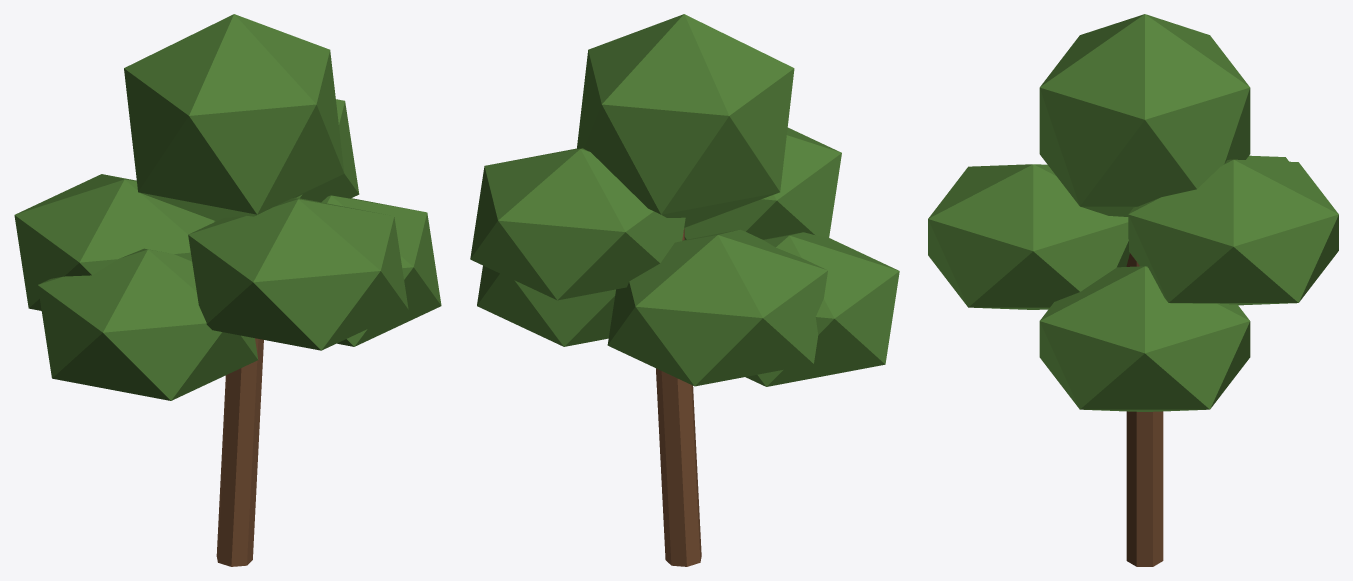
The model's file is tree_21.glb.
3 views of the same model, side by side, from view 1: azimuth 30°, elevation 25°; view 2: azimuth 150°, elevation 25°; view 3: azimuth 270°, elevation 25° (orthographic).
Visible parts, largest first — view 1: tree_21; view 2: tree_21; view 3: tree_21.
Part boxes in pixels (x1,y1,x2,y2): tree_21: (14, 14, 441, 566); tree_21: (470, 14, 899, 566); tree_21: (928, 14, 1338, 566).
Size of the model in its own units: 1.66 by 2.25 by 1.53.
